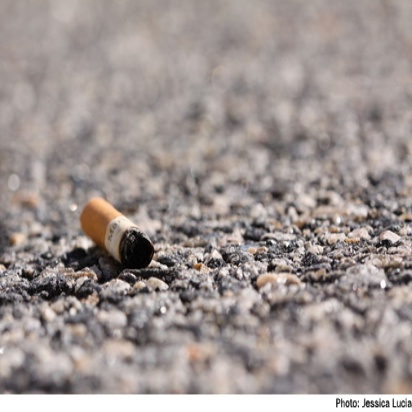cigarette: (77, 190, 158, 271)
